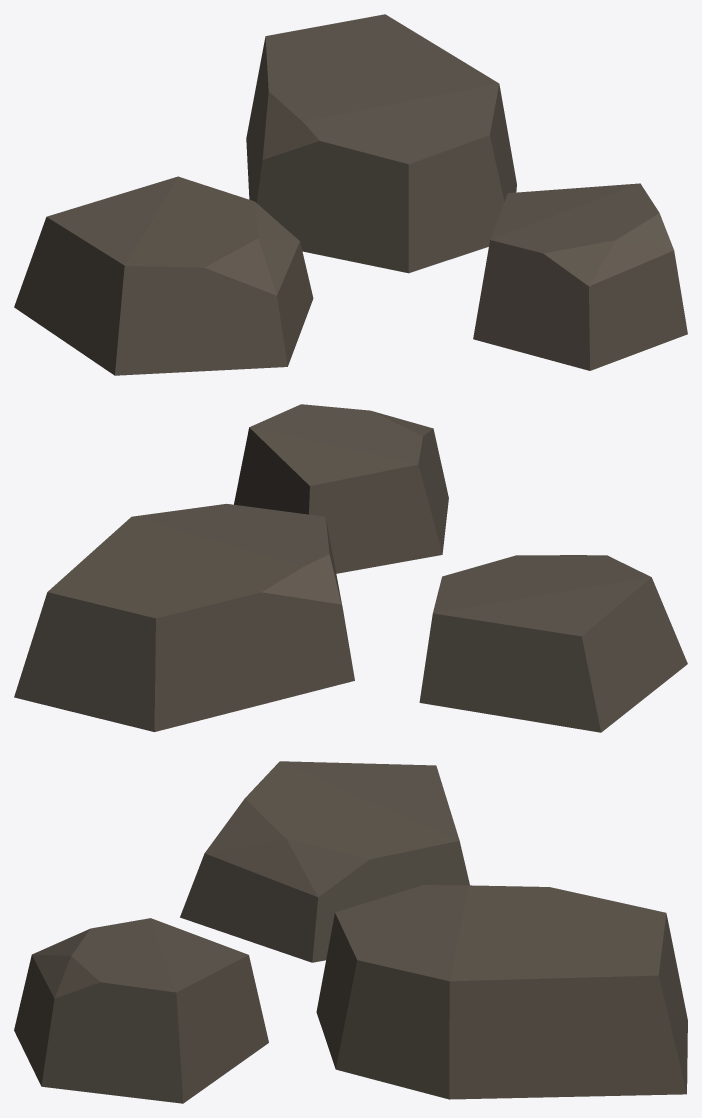
The model's file is SM_Prop_Path_Rock_Group_04.glb.
The picture shows the model from 3 angles, top to bottom: view 1: azimuth 30°, elevation 25°; view 2: azimuth 150°, elevation 25°; view 3: azimuth 270°, elevation 25°; orthographic projection. The views are drawn at different scales.
Parts seen in each view (by area): view 1: SM_Prop_Path_Rock_Group_04; view 2: SM_Prop_Path_Rock_Group_04; view 3: SM_Prop_Path_Rock_Group_04.
Part boxes in pixels (x1,y1,x2,y2): SM_Prop_Path_Rock_Group_04: [14, 14, 687, 375]; SM_Prop_Path_Rock_Group_04: [14, 404, 687, 732]; SM_Prop_Path_Rock_Group_04: [14, 761, 687, 1103].
Size of the model in its own units: 0.6911 by 0.1393 by 0.7588.
Materials: 1 (1 with a texture image).
